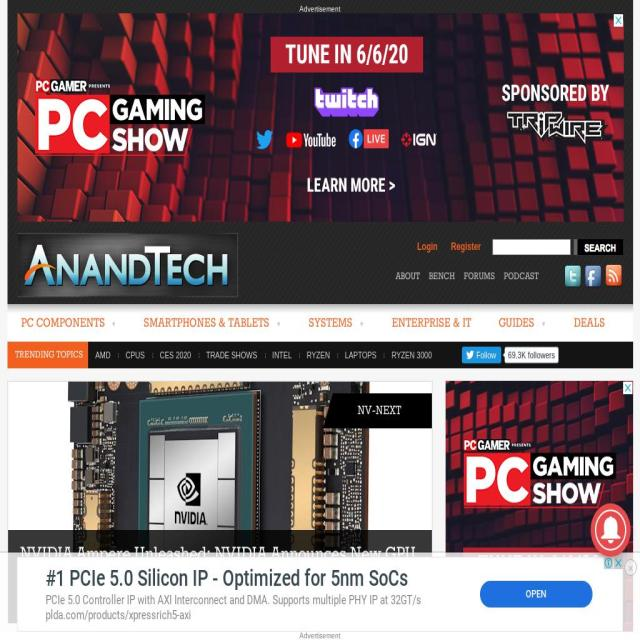button: (19, 544, 420, 610), (130, 305, 296, 345), (7, 496, 432, 510), (7, 305, 131, 345), (378, 305, 486, 343), (295, 305, 379, 345), (485, 305, 561, 345), (560, 305, 619, 343), (7, 637, 213, 640), (370, 598, 420, 610), (624, 560, 637, 577)
field: (492, 240, 570, 256), (573, 240, 623, 256)
heading: (19, 545, 420, 588)
iframe: (17, 14, 624, 223), (445, 381, 633, 640), (17, 558, 623, 632), (462, 348, 560, 364)
image: (7, 383, 432, 625), (17, 230, 238, 299), (590, 504, 630, 558), (7, 637, 213, 640), (604, 265, 624, 289), (564, 265, 582, 289), (584, 265, 602, 289)
link: (205, 351, 258, 361), (503, 271, 539, 283), (392, 351, 432, 361), (463, 271, 495, 283), (451, 242, 481, 253), (344, 351, 377, 361), (428, 271, 455, 283), (160, 351, 192, 361), (395, 271, 420, 283), (14, 378, 42, 388), (306, 351, 330, 361), (417, 242, 438, 253), (125, 351, 145, 361), (272, 351, 292, 361), (95, 351, 111, 361)
text: (0, 632, 640, 640), (17, 6, 623, 14), (322, 394, 432, 429), (7, 343, 88, 369), (144, 316, 270, 332), (21, 316, 105, 332), (19, 597, 78, 611), (231, 636, 432, 640), (309, 316, 353, 332), (499, 316, 535, 332), (111, 322, 117, 330), (276, 322, 282, 330), (359, 322, 365, 330), (541, 322, 547, 330)
